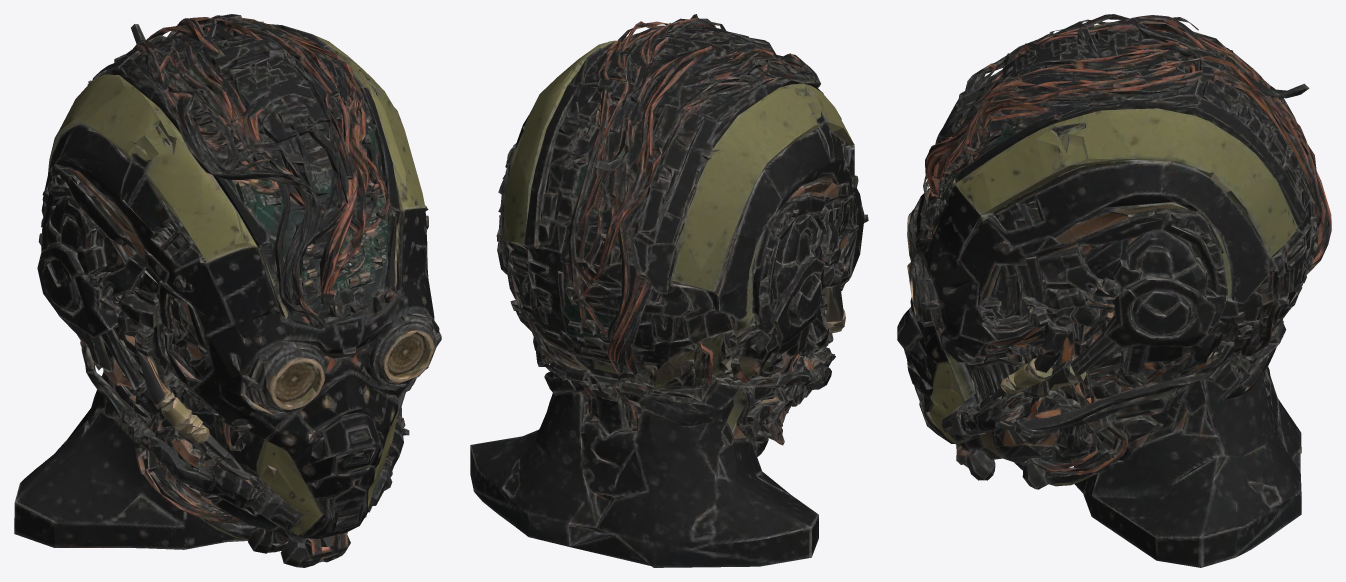
The model's file is robot_head.glb.
3 renders of one model, left to right at view 1: azimuth 30°, elevation 25°; view 2: azimuth 150°, elevation 25°; view 3: azimuth 270°, elevation 25°, orthographic. The views are drawn at different scales.
Visible parts, largest first — view 1: Mesh_0; view 2: Mesh_0; view 3: Mesh_0.
Part boxes in pixels (x1=…): Mesh_0: x1=14, y1=14, x2=441, y2=567; Mesh_0: x1=470, y1=14, x2=868, y2=567; Mesh_0: x1=897, y1=14, x2=1331, y2=567.
Size of the model in its own units: 0.2837 by 0.36 by 0.3113.
1 material, 1 textured.
